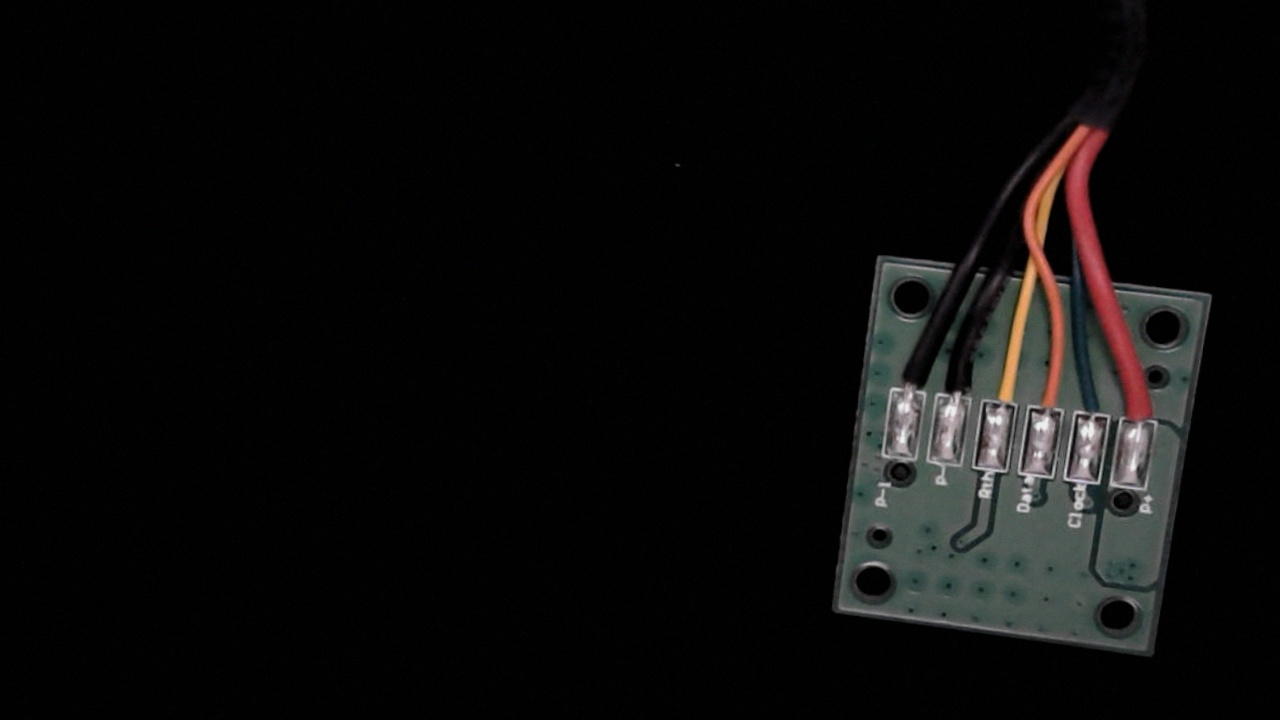Black: (933, 341, 981, 419)
Black1: (888, 332, 935, 412)
Green: (1072, 360, 1118, 437)
Orange: (1026, 359, 1072, 429)
Red: (1120, 366, 1166, 444)
Yellow: (981, 343, 1029, 425)
